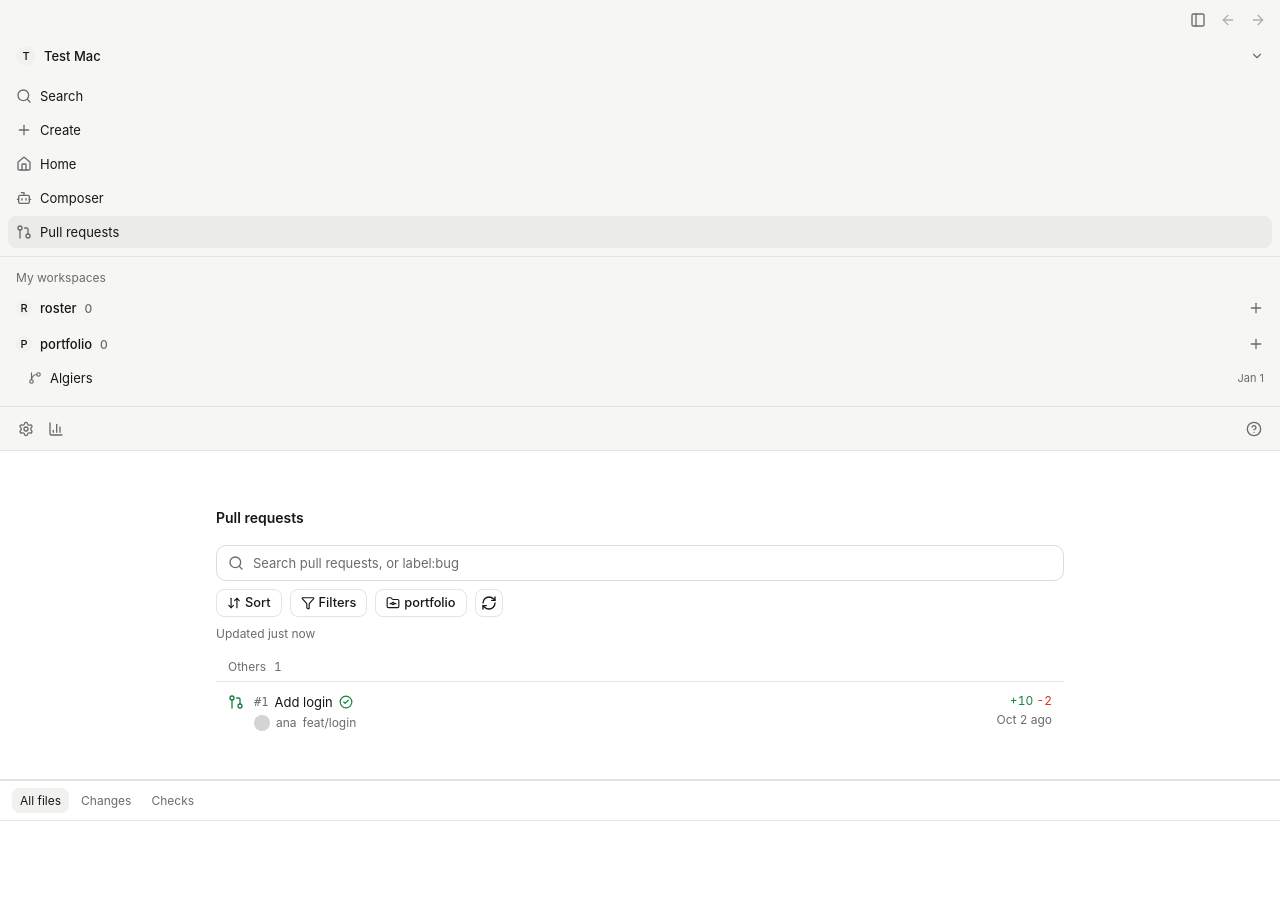
Test case: the Pull requests page › asks for every project when All projects is chosen, and remembers it
The width and height of the screenshot is (1280, 900).
Expected: the button "#1 Add login" is shown, [216,684,1064,739]
Click the button "portfolio": (421, 603) [375,589,467,617]
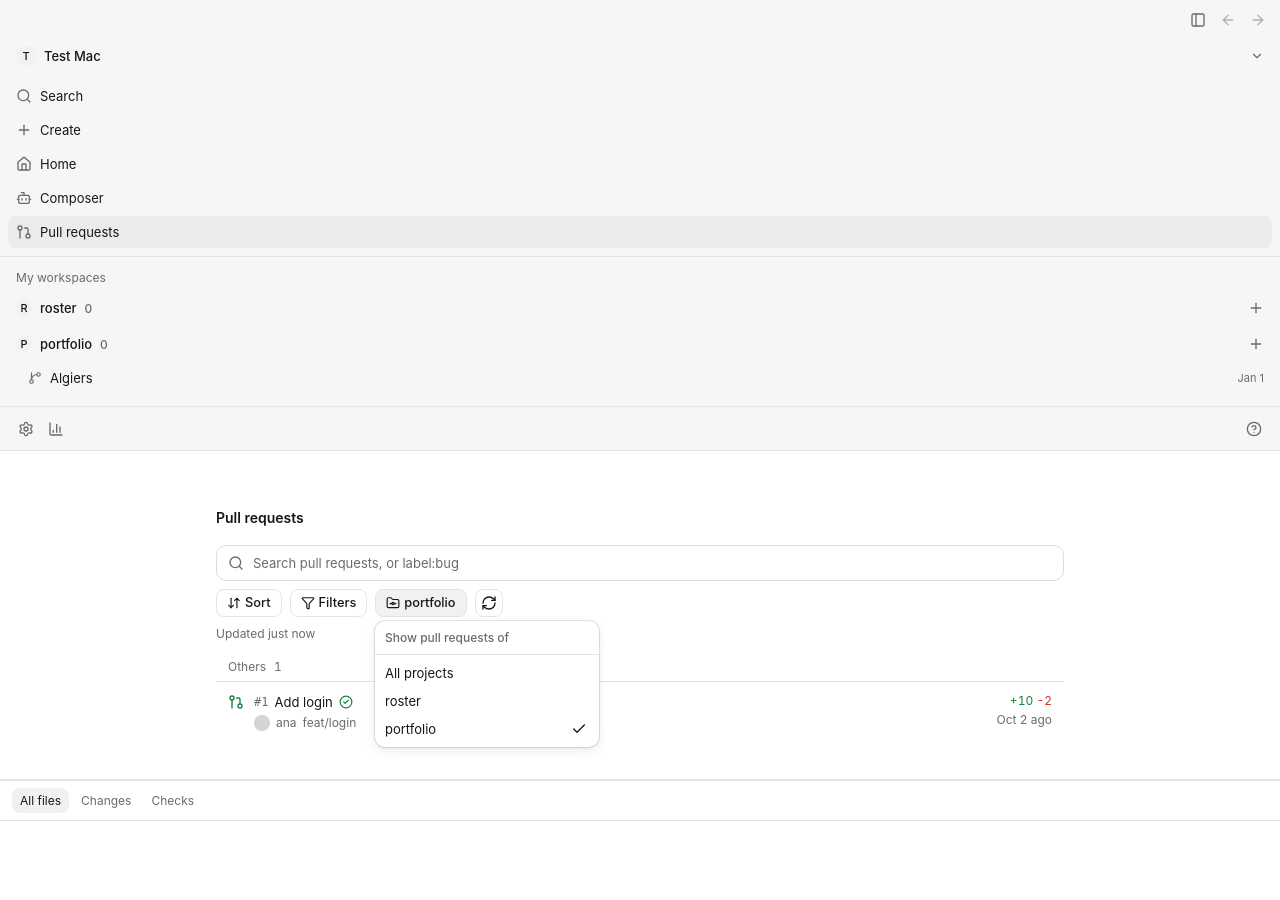
Click the menu item "All projects": (419, 673) [385,665,454,681]
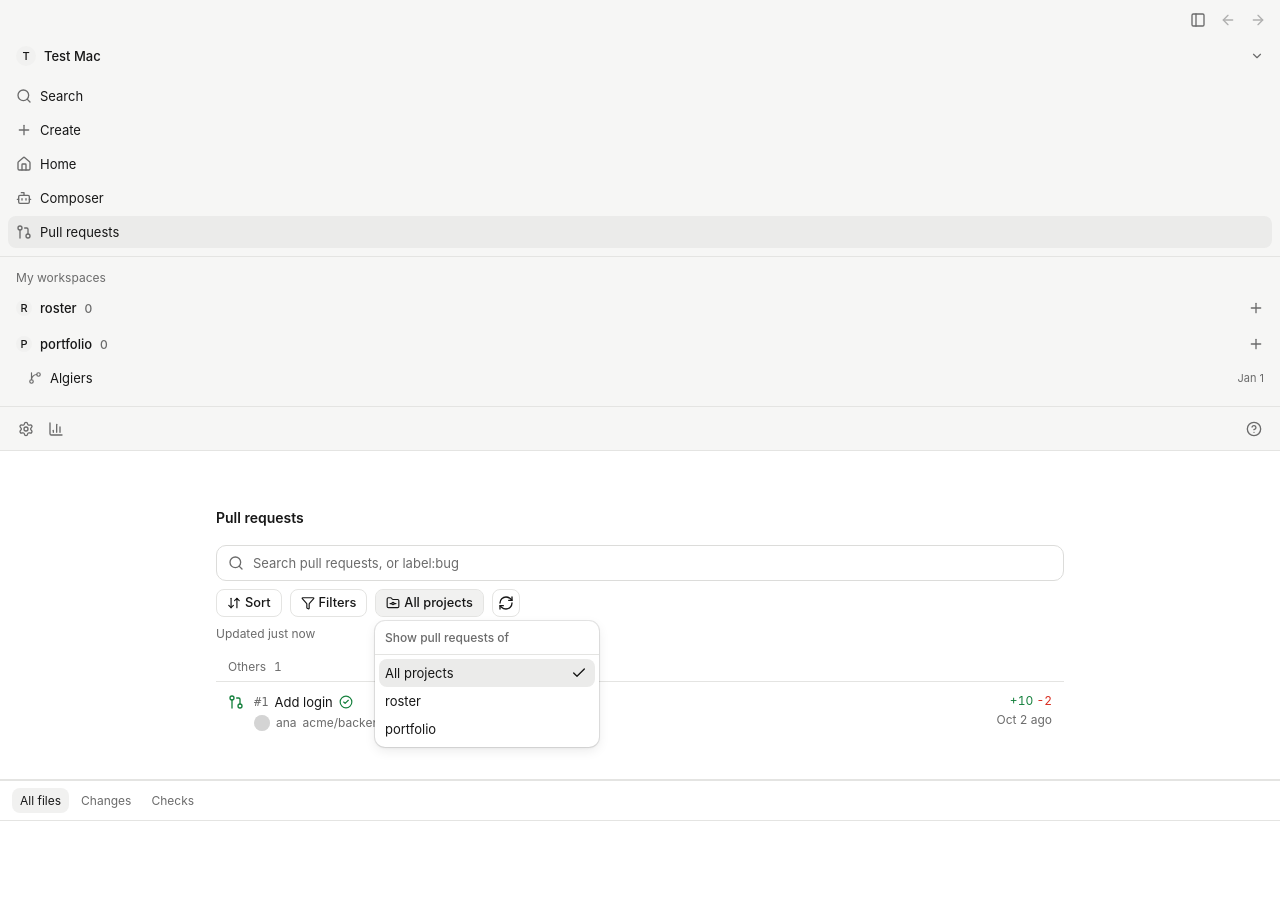
Now the text "acme/backend" is shown, box [303,714,387,731]
